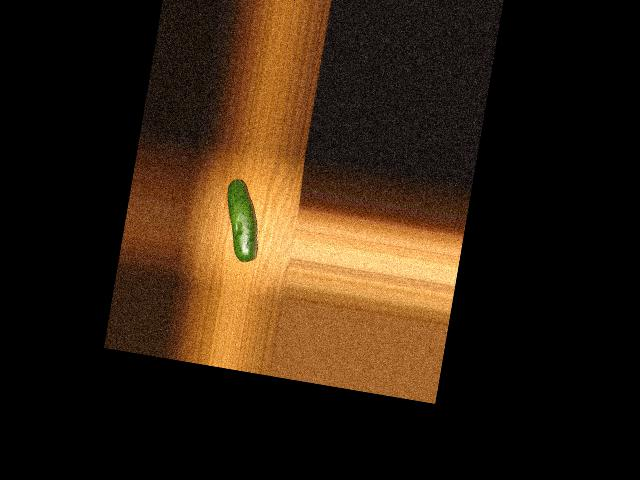cucumber: (217, 177, 268, 262)
